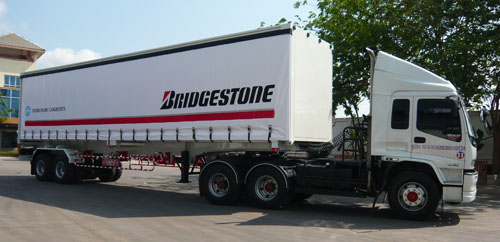truck: (16, 22, 479, 218)
